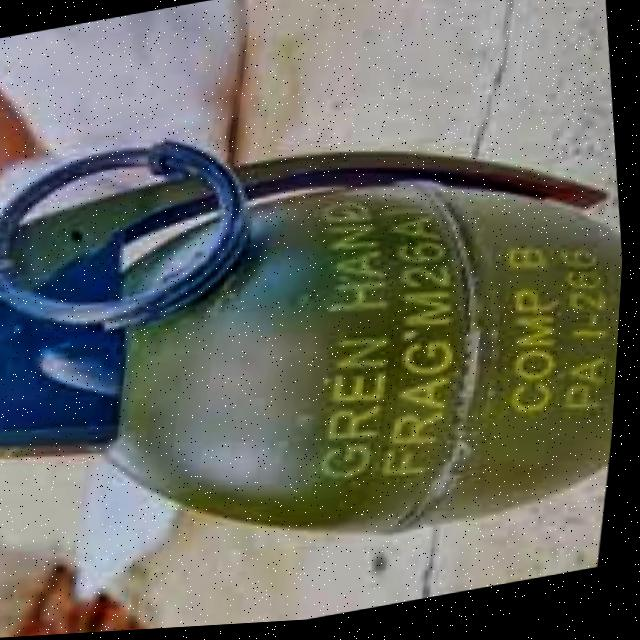grenade: (0, 39, 637, 640)
